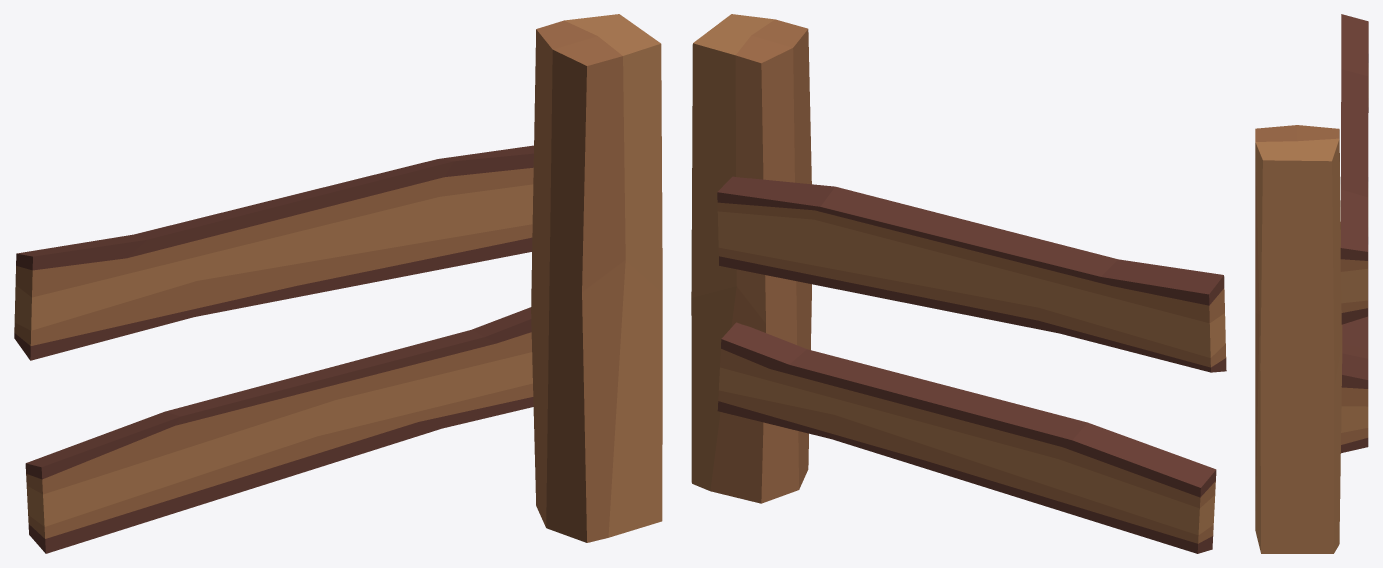
The model's file is fence_plank_half_shotr.fbx.
3 views of the same model, side by side, from view 1: azimuth 30°, elevation 25°; view 2: azimuth 150°, elevation 25°; view 3: azimuth 270°, elevation 25° (orthographic). The views are drawn at different scales.
Parts seen in each view (by area): view 1: fence_plank_half_shotr; view 2: fence_plank_half_shotr; view 3: fence_plank_half_shotr.
Part boxes in pixels (x1,y1,x2,y2): fence_plank_half_shotr: (14,14,662,553); fence_plank_half_shotr: (691,14,1226,553); fence_plank_half_shotr: (1255,14,1368,553).
Size of the model in its own units: 88.45 by 69.46 by 17.99.
